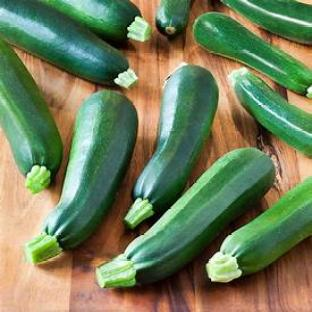Zucchini: (97, 148, 274, 288), (25, 91, 137, 263), (125, 65, 217, 228), (207, 177, 311, 282), (193, 13, 311, 96), (0, 40, 62, 193), (231, 68, 311, 157)
